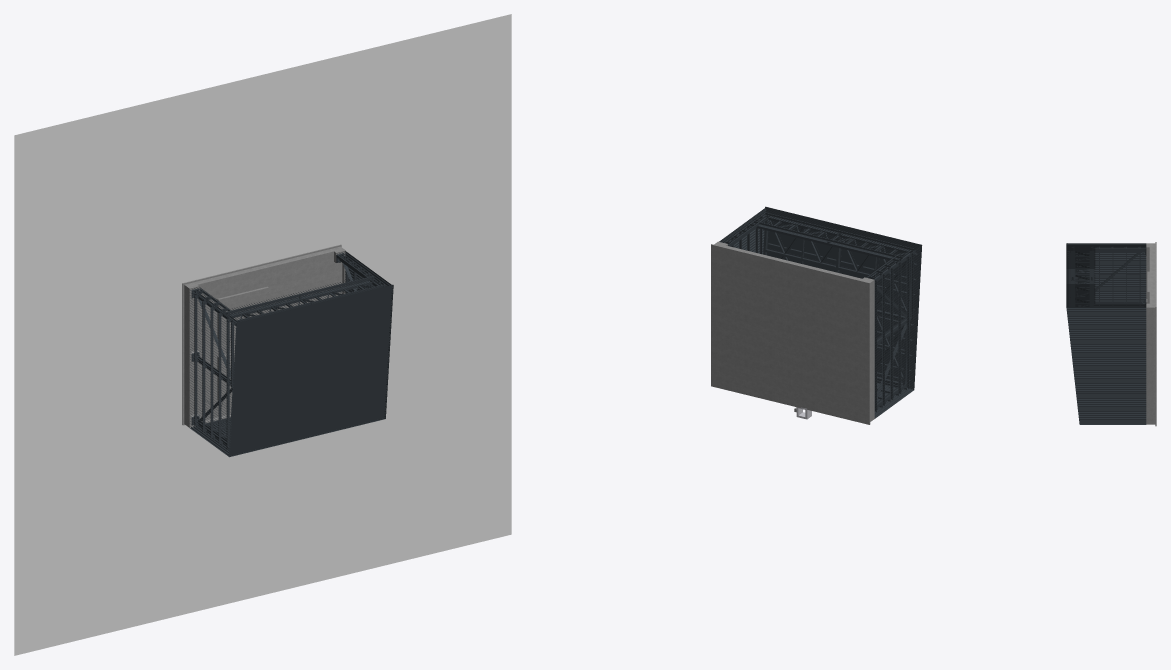
The model's file is bola.glb.
The picture shows the model from 3 angles, left to right: view 1: azimuth 30°, elevation 25°; view 2: azimuth 150°, elevation 25°; view 3: azimuth 270°, elevation 25°; orthographic projection. The views are drawn at different scales.
Visible parts, largest first — view 1: _shadow, LY004_CUBIERTA.001, LY002_Hormigon.001, LY003_ESTRUCTURA.001, LY001_plancha greca.001; view 2: LY002_Hormigon.001, LY003_ESTRUCTURA.001, LY004_CUBIERTA.001, LY001_plancha greca.001; view 3: LY001_plancha greca.001, LY003_ESTRUCTURA.001, LY002_Hormigon.001, LY004_CUBIERTA.001.
Part boxes in pixels (x1,y1,x2,y2): _shadow: (14,14,511,655); LY004_CUBIERTA.001: (228,284,393,457); LY002_Hormigon.001: (182,244,345,427); LY003_ESTRUCTURA.001: (191,253,385,449); LY001_plancha greca.001: (190,251,393,456); LY002_Hormigon.001: (711,241,874,424); LY003_ESTRUCTURA.001: (725,212,917,411); LY004_CUBIERTA.001: (765,206,922,389); LY001_plancha greca.001: (719,207,921,418); LY001_plancha greca.001: (1066,243,1146,424); LY003_ESTRUCTURA.001: (1068,246,1146,306); LY002_Hormigon.001: (1146,242,1156,426); LY004_CUBIERTA.001: (1066,244,1074,379).
Bounding box in the file's own units: 2 × 2 × 0.3733.
5 materials, 1 textured.
